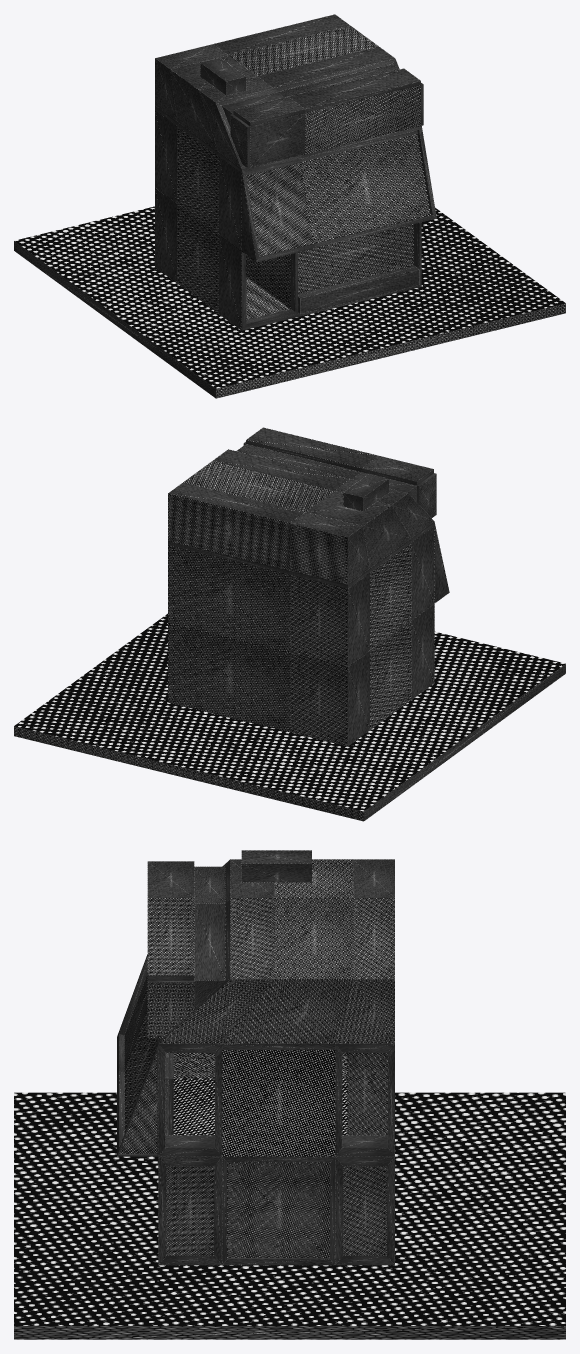
3 views of the same model, one above another, from view 1: azimuth 30°, elevation 25°; view 2: azimuth 150°, elevation 25°; view 3: azimuth 270°, elevation 25° (orthographic). The views are drawn at different scales.
Visible parts, largest first — view 1: Куб, Плоскость, Куб.002; view 2: Куб, Плоскость, Куб.002; view 3: Куб, Плоскость, Куб.002.
Part boxes in pixels (left/top/right/bottom): Куб: left=155, top=14, right=436, bottom=330; Плоскость: left=14, top=206, right=565, bottom=398; Куб.002: left=200, top=58, right=246, bottom=95; Куб: left=168, top=427, right=449, bottom=746; Плоскость: left=14, top=613, right=565, bottom=821; Куб.002: left=343, top=473, right=388, bottom=511; Куб: left=117, top=859, right=394, bottom=1265; Плоскость: left=14, top=1092, right=565, bottom=1339; Куб.002: left=241, top=850, right=311, bottom=882.
Size of the model in its own units: 3500 by 2229 by 3500.
